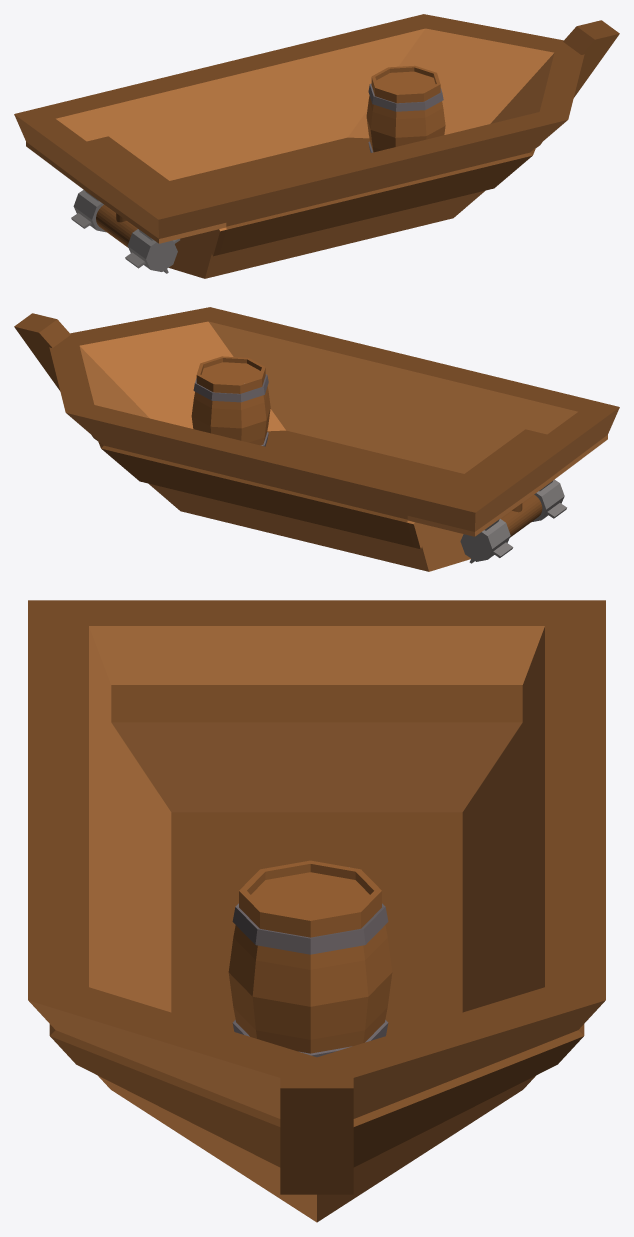
Rendered from OldShip1.fbx.
The picture shows the model from 3 angles, top to bottom: view 1: azimuth 30°, elevation 25°; view 2: azimuth 150°, elevation 25°; view 3: azimuth 270°, elevation 25°; orthographic projection. The views are drawn at different scales.
Visible parts, largest first — view 1: Hull.001, Cylinder.003, Propeller.001; view 2: Hull.001, Cylinder.003, Propeller.001; view 3: Hull.001, Cylinder.003.
Boxes of the visible parts, x1,y1,x2,y2 form: Hull.001: [14, 14, 619, 278]; Cylinder.003: [366, 65, 445, 152]; Propeller.001: [71, 190, 180, 273]; Hull.001: [14, 307, 619, 571]; Cylinder.003: [191, 356, 270, 446]; Propeller.001: [460, 479, 566, 563]; Hull.001: [28, 600, 605, 1222]; Cylinder.003: [228, 860, 392, 1057].
Size of the model in its own units: 2.17 by 1.03 by 4.56.
